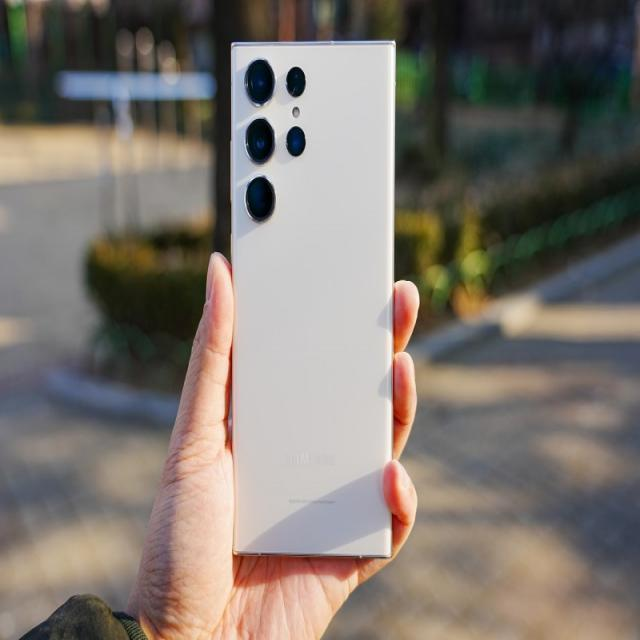lens: (241, 55, 308, 235)
phone: (227, 36, 398, 563)
